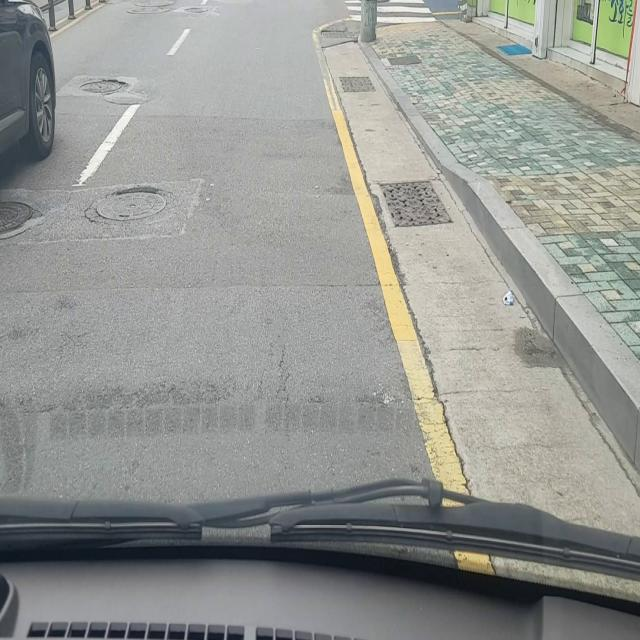Pothole: (0, 196, 44, 238)
